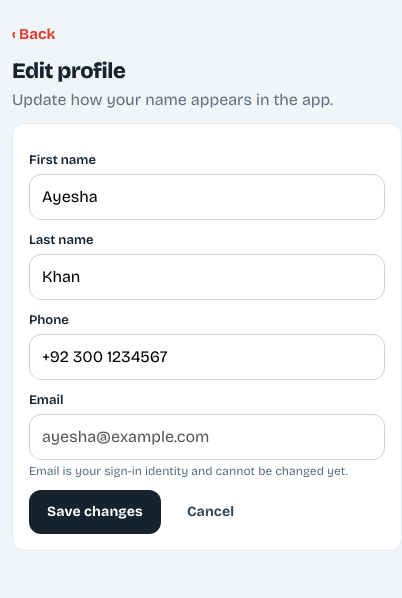
Test case: EditProfileScreen › prefills existing values and saves trimmed changes
expect the field labelled "First name" holds "Ayesha": met, box 29,174 -> 385,220
Replace the text in the field labelled "Last name" with " Khan-Farooq " at (207, 276), box 29,254 -> 385,300
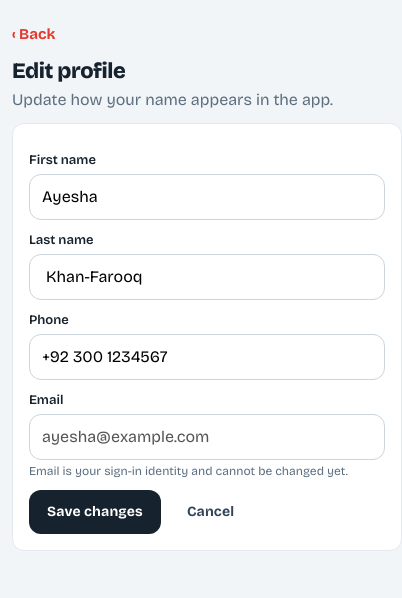
Click the button "Save changes" at (95, 512), box 29,490 -> 161,534
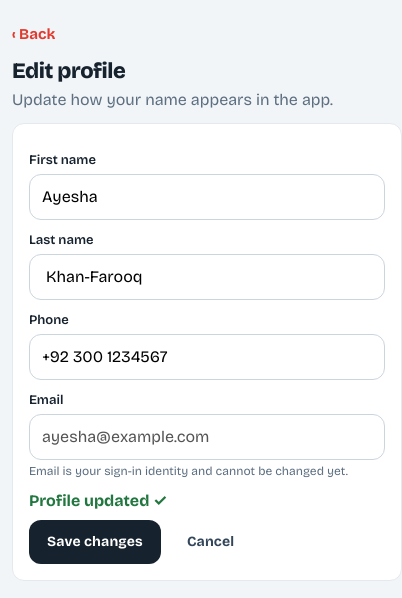
expect the text "Profile updated ✓" is shown: met, box 29,490 -> 167,510
